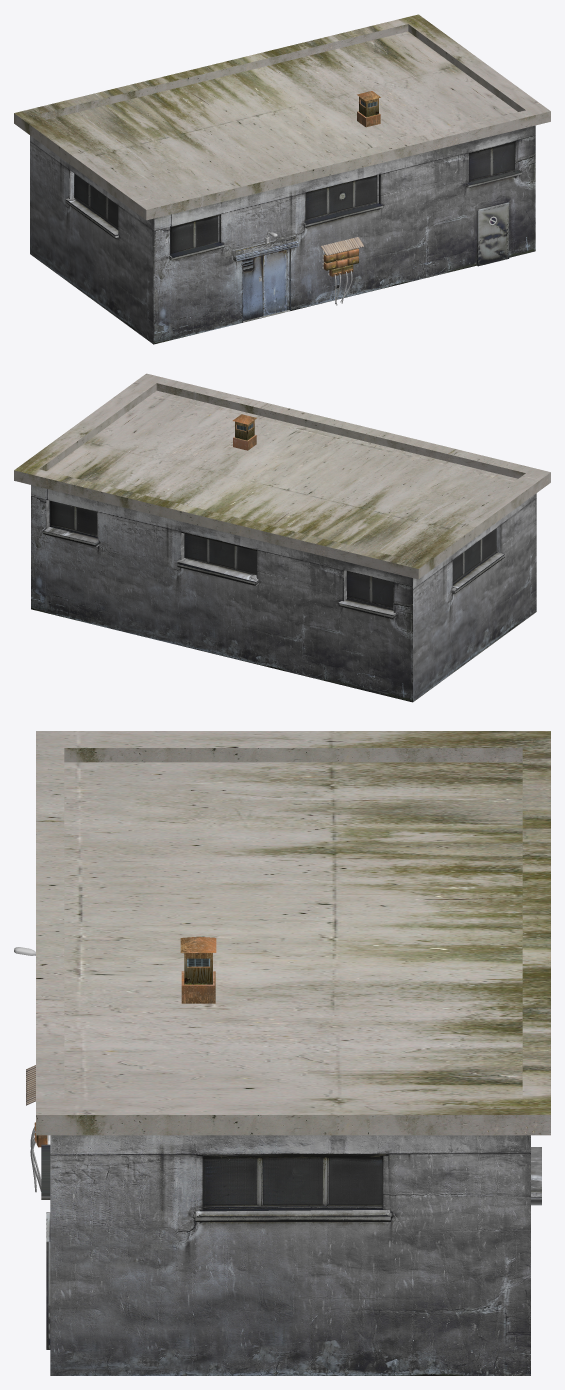
Rendered from ind4_dirt_house.fbx.
The picture shows the model from 3 angles, top to bottom: view 1: azimuth 30°, elevation 25°; view 2: azimuth 150°, elevation 25°; view 3: azimuth 270°, elevation 25°; orthographic projection. The views are drawn at different scales.
Visible parts, largest first — view 1: Mesh Object, Mesh Object_ncl1_1; view 2: Mesh Object, Mesh Object_ncl1_1; view 3: Mesh Object, Mesh Object_ncl1_1.
Part boxes in pixels (<box>): Mesh Object: <box>14,14,550,344</box>; Mesh Object_ncl1_1: <box>258,91,380,305</box>; Mesh Object: <box>14,373,550,702</box>; Mesh Object_ncl1_1: <box>232,414,256,450</box>; Mesh Object: <box>36,731,550,1375</box>; Mesh Object_ncl1_1: <box>14,936,216,1192</box>.
Size of the model in its own units: 21.75 by 8.47 by 12.86.
